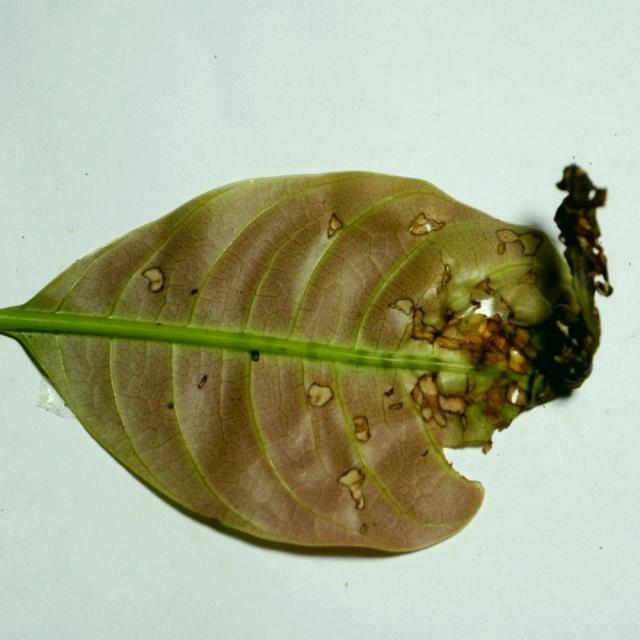Anthracnose: (500, 281, 550, 324), (480, 321, 514, 364), (337, 467, 366, 510), (439, 323, 480, 351), (481, 382, 507, 425), (307, 376, 338, 410), (410, 308, 439, 343), (409, 212, 445, 236), (495, 230, 527, 257), (507, 347, 532, 375), (517, 232, 543, 258), (141, 267, 165, 293), (438, 394, 467, 414), (457, 312, 484, 333), (505, 384, 529, 407), (469, 286, 494, 306), (352, 416, 371, 442), (389, 297, 415, 316), (418, 375, 439, 398), (326, 213, 344, 239), (513, 327, 532, 349), (475, 276, 495, 295), (435, 336, 462, 350), (554, 319, 572, 340), (594, 278, 612, 298), (411, 382, 425, 407), (537, 385, 556, 402), (440, 325, 460, 341), (517, 270, 537, 285), (440, 264, 452, 288), (553, 303, 575, 316), (469, 389, 488, 404), (431, 411, 447, 428), (522, 346, 538, 360), (445, 314, 460, 328), (489, 313, 504, 326), (421, 406, 433, 422), (470, 480, 484, 493), (467, 377, 477, 394), (197, 374, 208, 389), (496, 241, 506, 256), (482, 441, 492, 455), (384, 386, 395, 397), (388, 402, 403, 410), (460, 414, 468, 429), (471, 298, 482, 308), (251, 351, 260, 362), (359, 523, 367, 534), (190, 288, 198, 296), (167, 401, 174, 409), (448, 461, 453, 469)
Mango: (0, 174, 608, 559)
